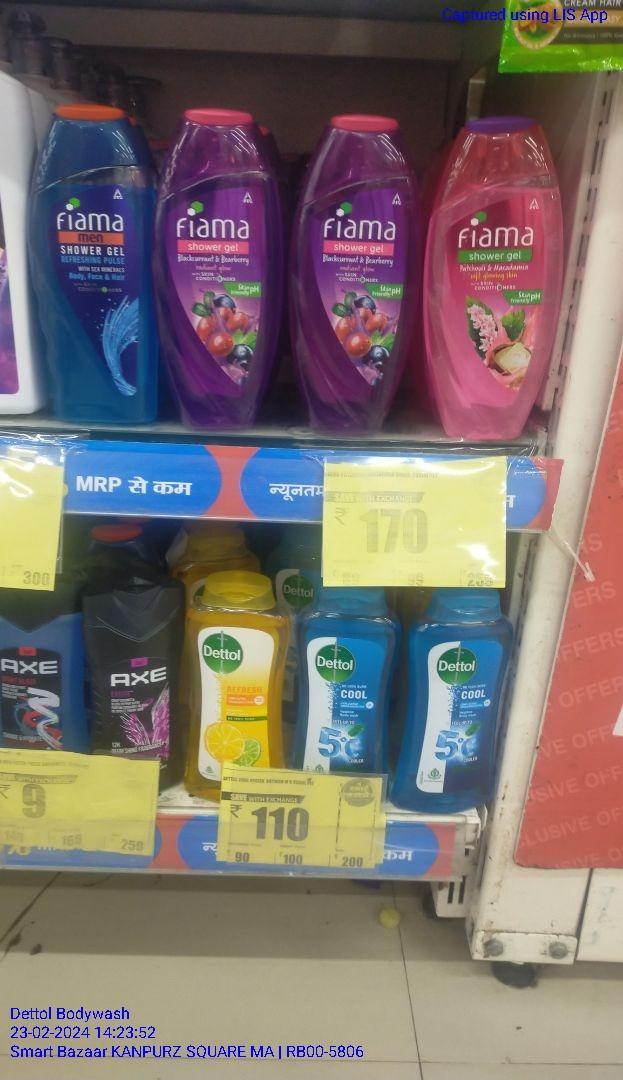Dettol_Bodywash_Cool: (395, 587, 503, 810), (305, 583, 395, 775)
Dettol_Bodywash_Refresh: (178, 583, 295, 797)
Fiama_Shower_Gel_Patchouli_and_Macadamia_250ML: (427, 113, 557, 443)
